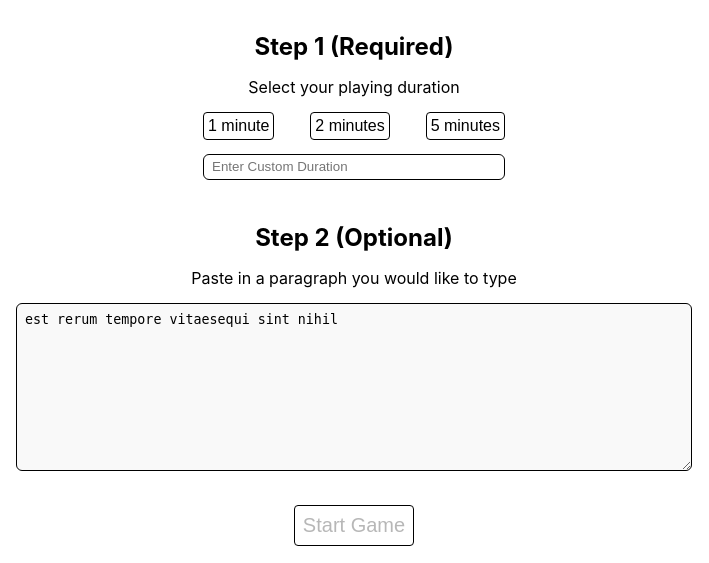
clicking start game starts the game
Click the button "1 minute".
click(239, 126)  # box [204,113,273,139]
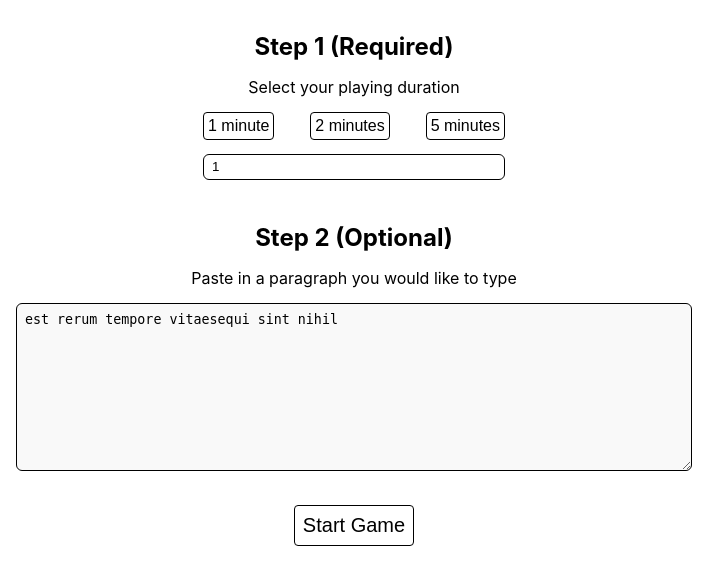
Click the button "Start Game".
click(354, 525)  # box [295,506,413,545]
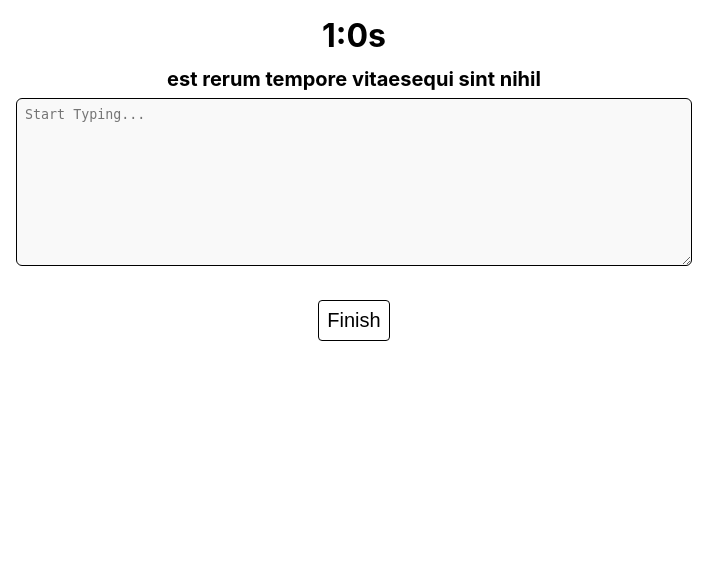
Expected: the heading "est rerum tempore vitaesequi sint nihil" is shown, [167,67,541,91]
Expected: the heading "1:0s" is shown, [322,16,386,55]
